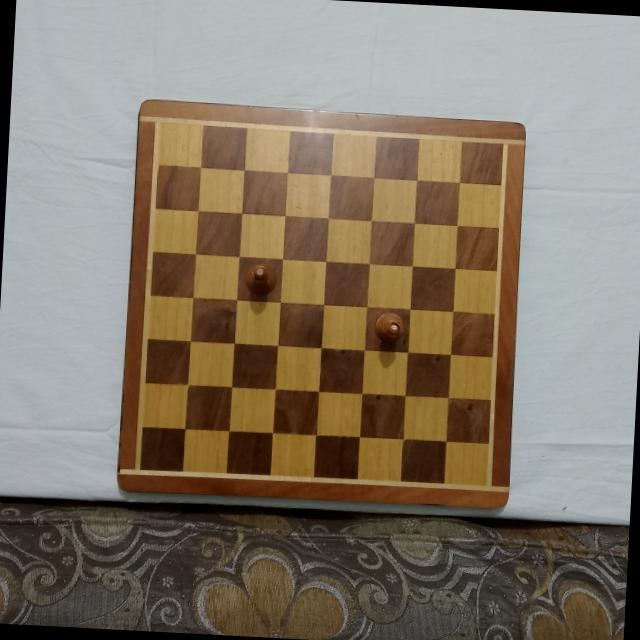white-bishop: (370, 308, 406, 344), (243, 261, 277, 297)
